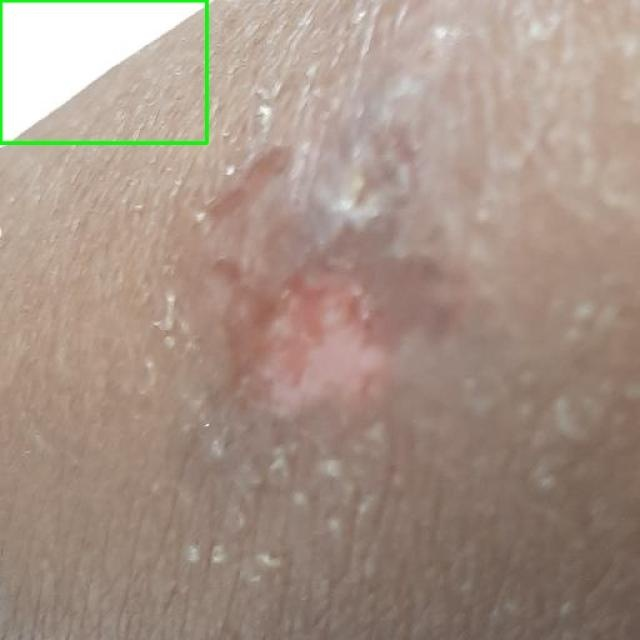Eczema: (0, 0, 208, 144)
